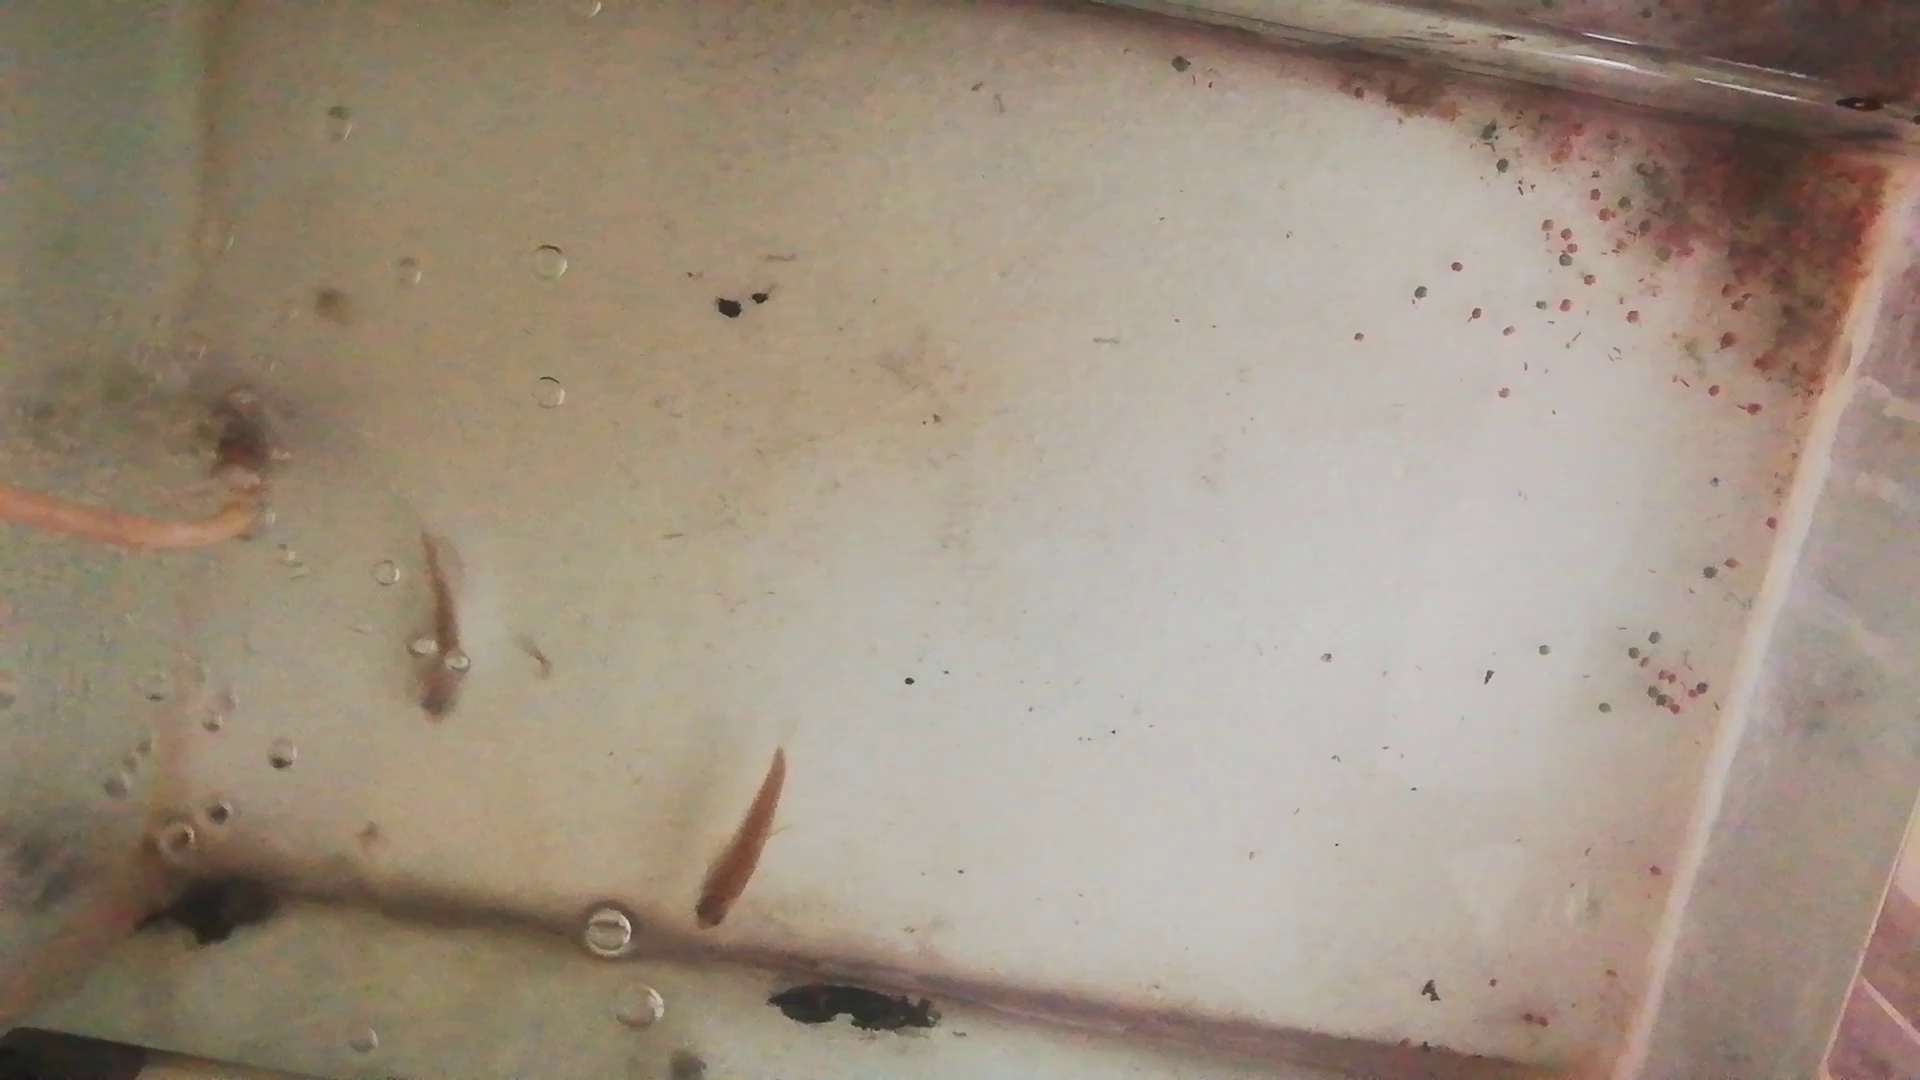fish: (694, 744, 779, 934), (410, 522, 472, 724)
